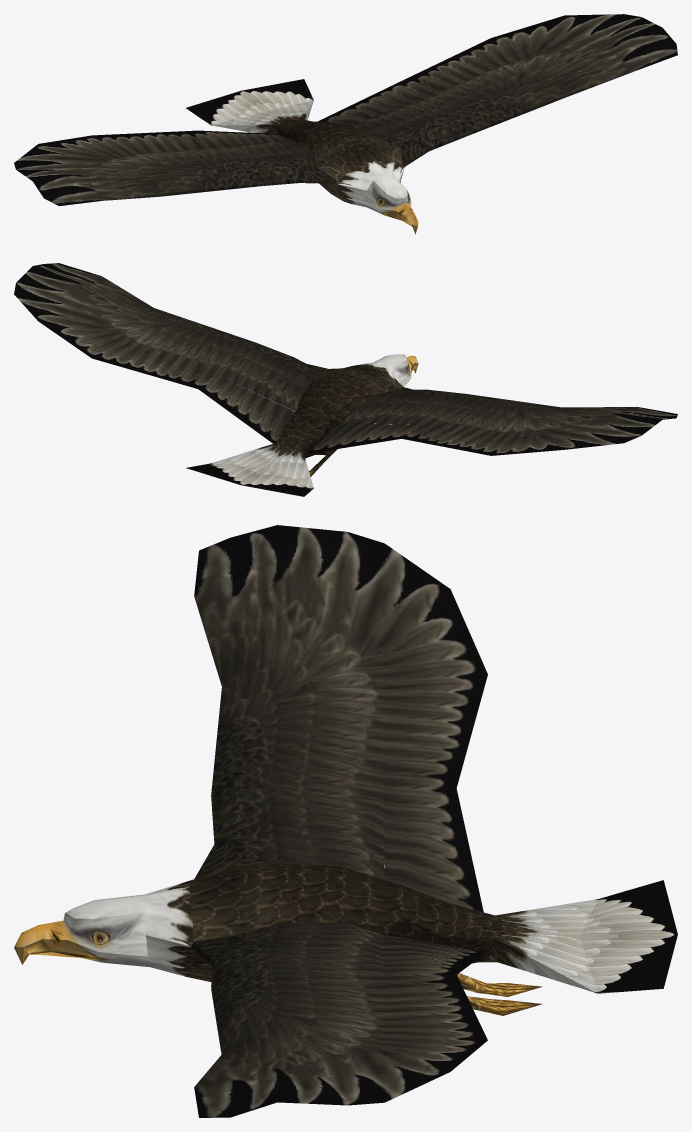
File: Eagle.obj
3 renders of one model, top to bottom at view 1: azimuth 30°, elevation 25°; view 2: azimuth 150°, elevation 25°; view 3: azimuth 270°, elevation 25°, orthographic. The views are drawn at different scales.
Parts seen in each view (by area): view 1: Eagle.001_Eagle; view 2: Eagle.001_Eagle; view 3: Eagle.001_Eagle.
Boxes of the visible parts, box(x1,y1,x2,y2) form: Eagle.001_Eagle: box(14, 14, 677, 234); Eagle.001_Eagle: box(14, 263, 677, 496); Eagle.001_Eagle: box(14, 525, 677, 1117).
Bounding box in the file's own units: 1.22 × 0.1885 × 0.5896.
Materials: 1 (1 with a texture image).
